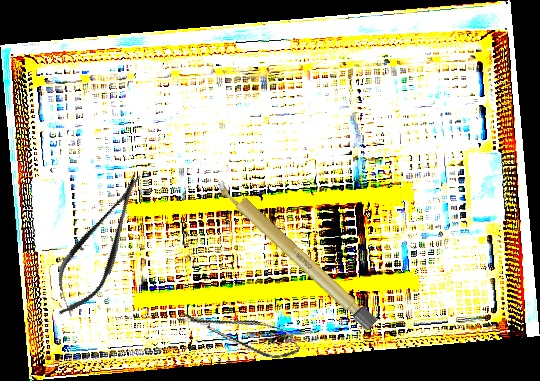Micro Scissor: (39, 163, 161, 327), (174, 297, 304, 366)
Scalpel Handle: (213, 175, 379, 332)
